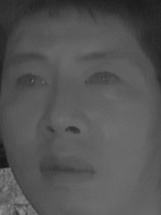eye: (80, 66, 125, 92), (12, 69, 52, 93)
mouth: (40, 150, 95, 190)
